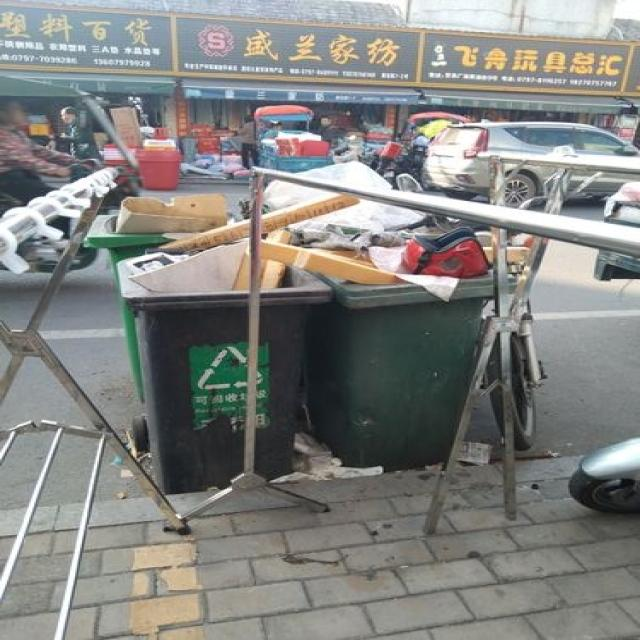garbage: (272, 432, 381, 478)
overflow: (264, 161, 514, 465), (114, 194, 328, 491)
